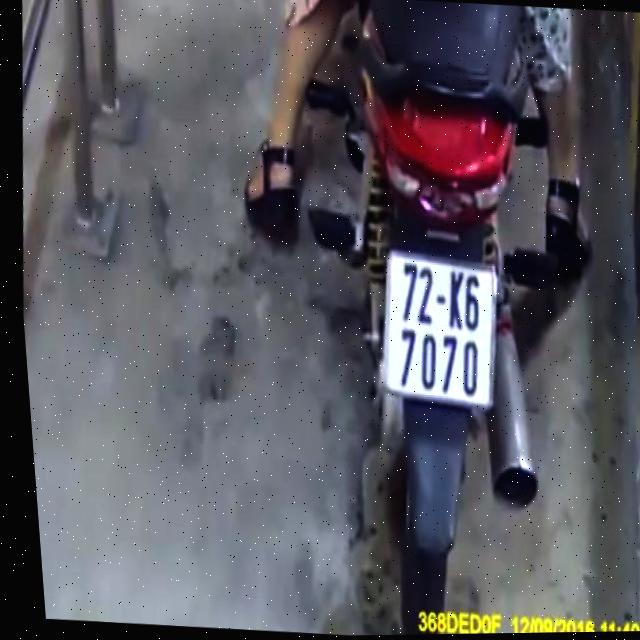motorcycle: (245, 0, 622, 636)
plate: (360, 240, 518, 418)
